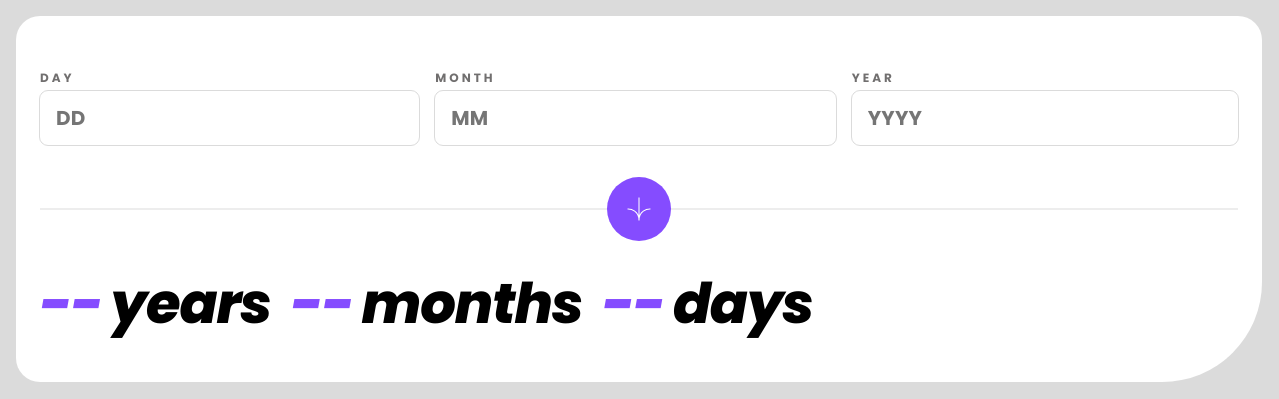
App component › should show correct result, when inputs are fine
Type "10" into the field with test id "input" showing "DD" at x=230, y=118, box [40,91,419,145]
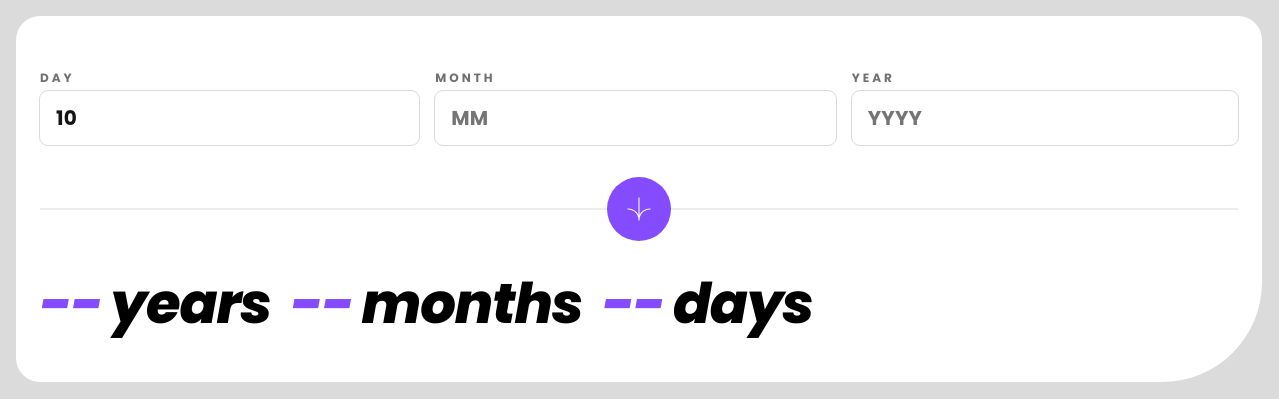
Type "6" into the field with test id "input" showing "MM" at x=635, y=118, box [435,91,836,145]
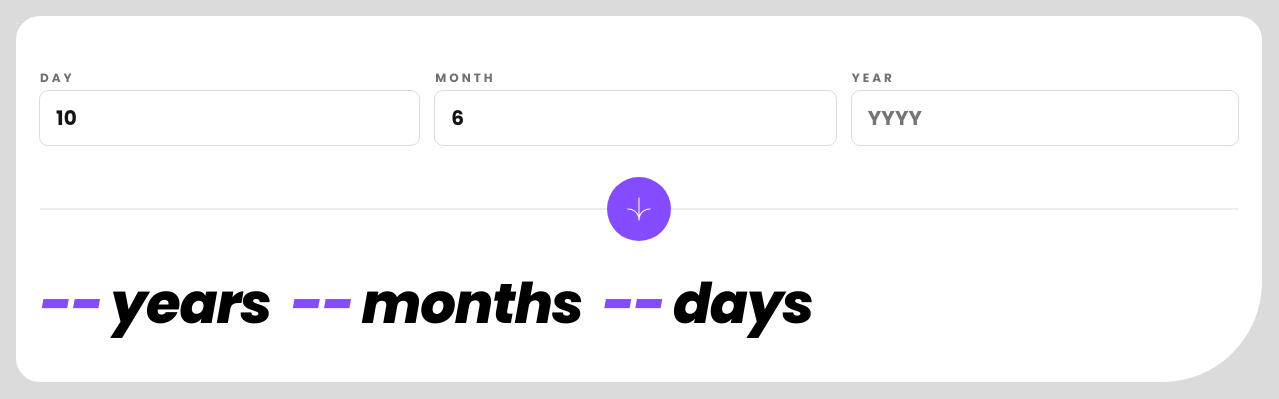
Type "1995" into the field with test id "input" showing "YYYY" at x=1045, y=118, box [852,91,1238,145]
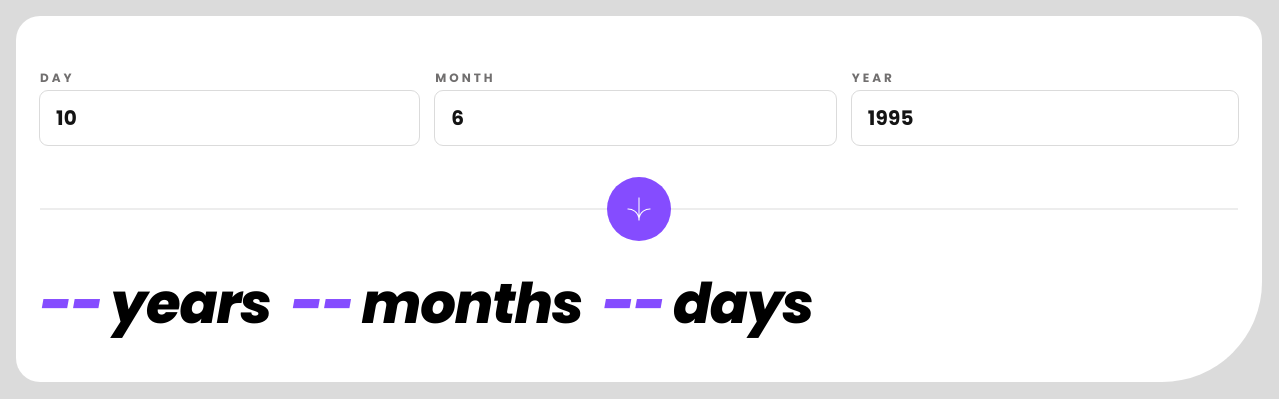
Click the element with test id "submit" at x=639, y=209, box [607,177,671,241]
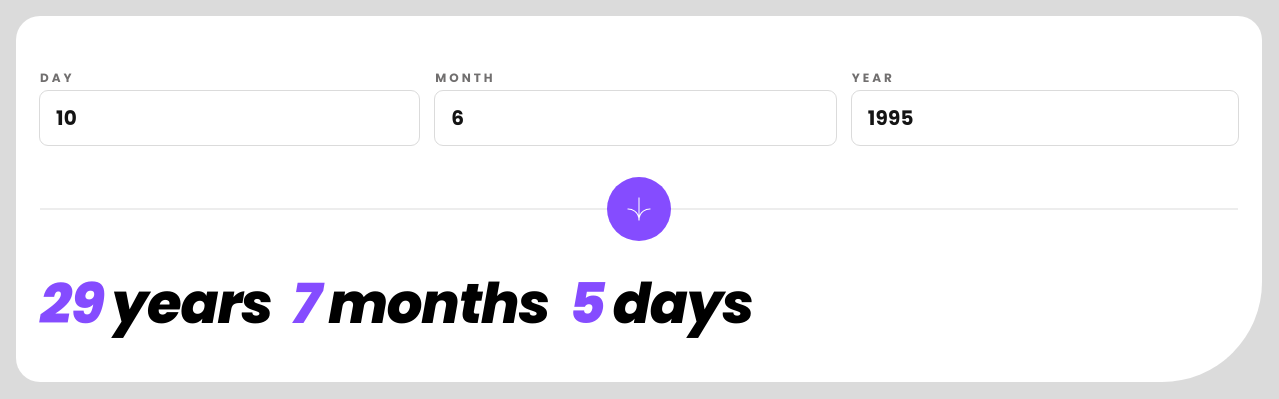
Expected: the element with test id "result" reads "29", [40,264,104,343]
Expected: the element with test id "result" reads "7", [292,264,320,343]
Expected: the element with test id "result" reads "5", [569,264,605,343]
